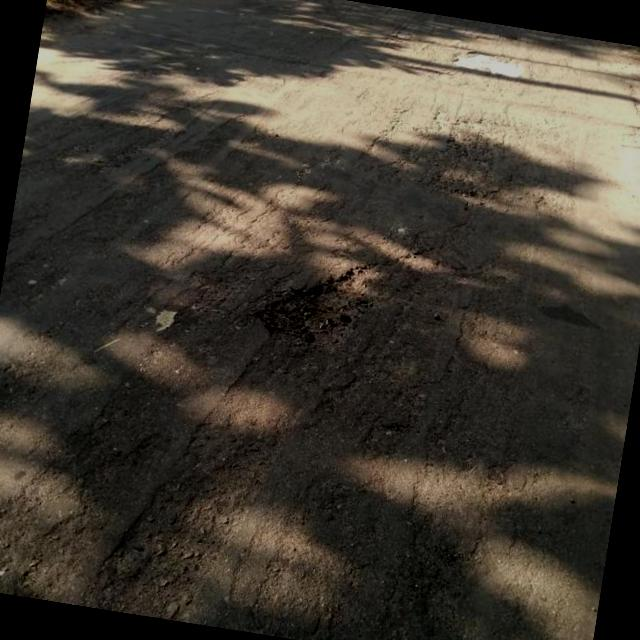pothole: (248, 248, 379, 360)
